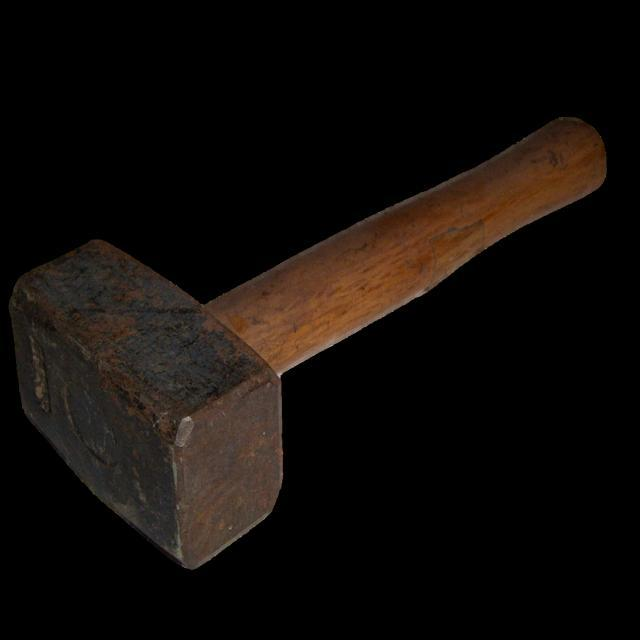hammer: (3, 102, 610, 581)
